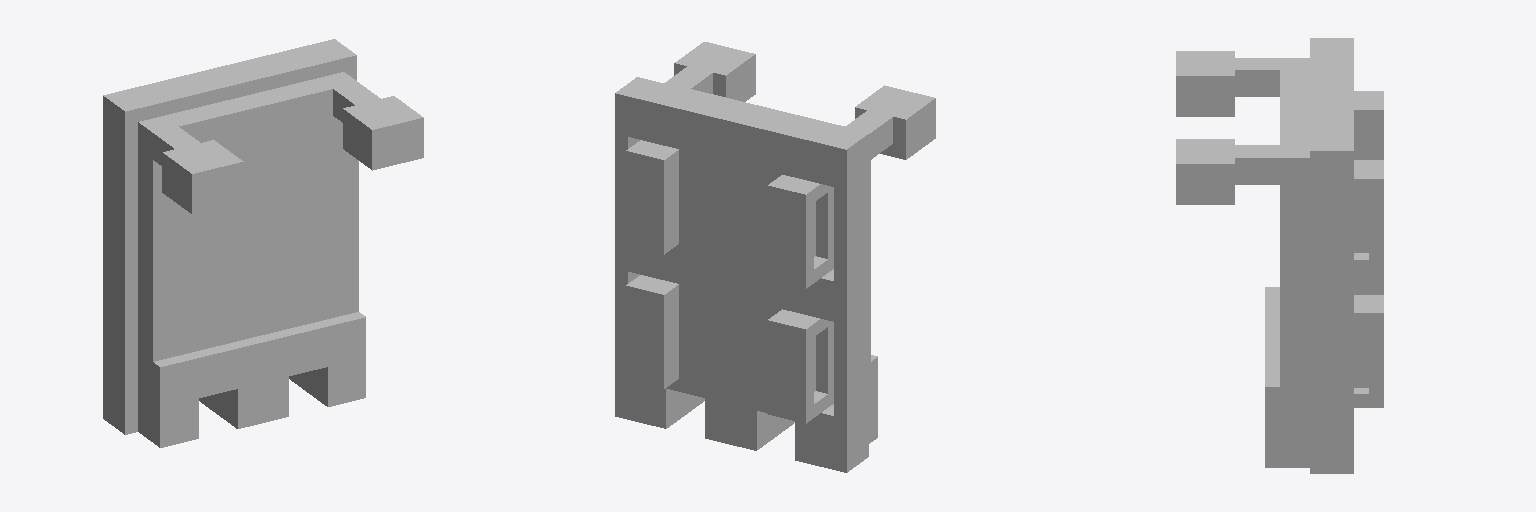
File: flat bot.obj
3 renders of one model, left to right at view 1: azimuth 30°, elevation 25°; view 2: azimuth 150°, elevation 25°; view 3: azimuth 270°, elevation 25°, orthographic.
Bounding box in the file's own units: 18 × 24 × 14.